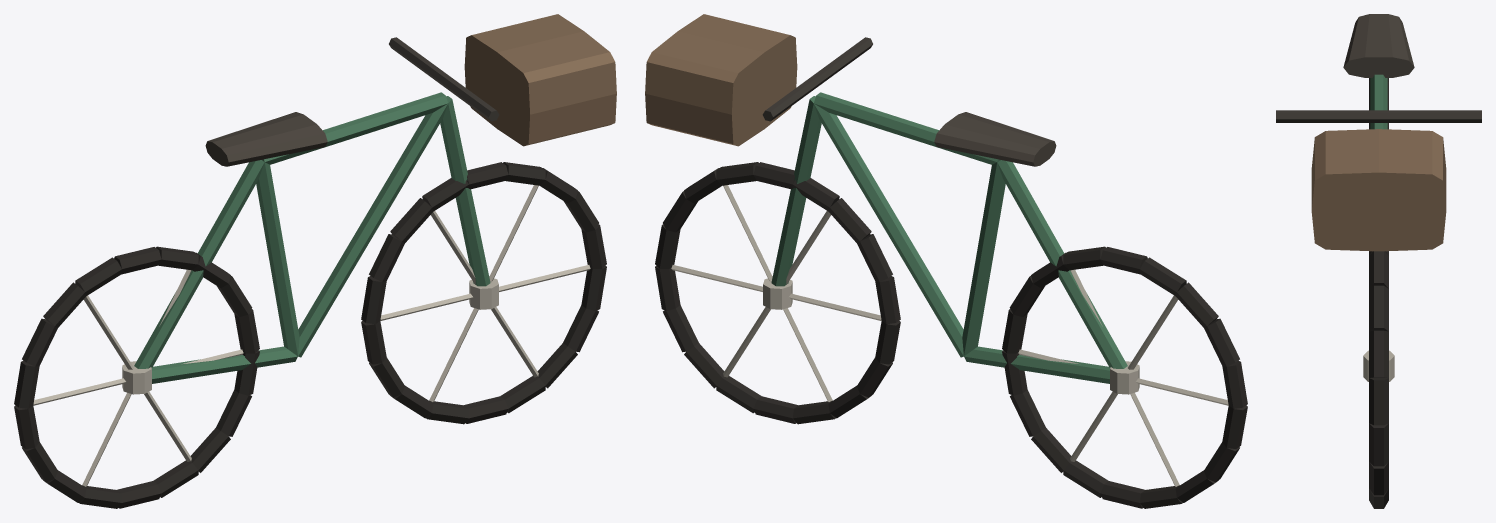
The model's file is bisiklet-yesil.glb.
3 renders of one model, left to right at view 1: azimuth 30°, elevation 25°; view 2: azimuth 150°, elevation 25°; view 3: azimuth 270°, elevation 25°, orthographic. The views are drawn at different scales.
Visible parts, largest first — view 1: lastik, a_yesil, ahsap, jant, ic, demir; view 2: lastik, a_yesil, ahsap, jant, ic, demir; view 3: ahsap, lastik, ic, demir, a_yesil, jant.
Part boxes in pixels (bbox=[...]): lastik: bbox=[14, 162, 606, 508]; a_yesil: bbox=[134, 92, 490, 383]; ahsap: bbox=[464, 14, 616, 146]; jant: bbox=[33, 185, 590, 486]; ic: bbox=[205, 112, 327, 166]; demir: bbox=[389, 37, 499, 121]; lastik: bbox=[655, 162, 1247, 508]; a_yesil: bbox=[771, 92, 1127, 383]; ahsap: bbox=[645, 14, 797, 146]; jant: bbox=[671, 185, 1228, 486]; ic: bbox=[934, 112, 1056, 166]; demir: bbox=[762, 37, 872, 121]; ahsap: bbox=[1311, 129, 1446, 251]; lastik: bbox=[1369, 78, 1388, 508]; ic: bbox=[1343, 14, 1414, 77]; demir: bbox=[1276, 110, 1481, 122]; a_yesil: bbox=[1370, 74, 1387, 129]; jant: bbox=[1363, 350, 1394, 381].
Bounding box in the file's own units: 1.76 × 1.04 × 0.52.
